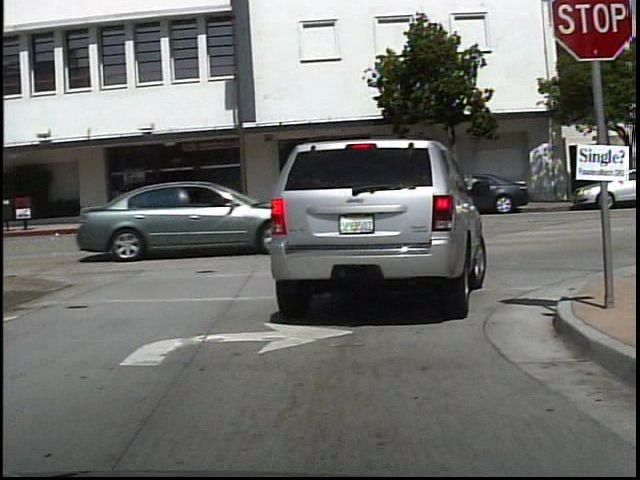car: (259, 142, 481, 311), (66, 177, 268, 263), (477, 168, 533, 214)
stop: (549, 1, 636, 69)
